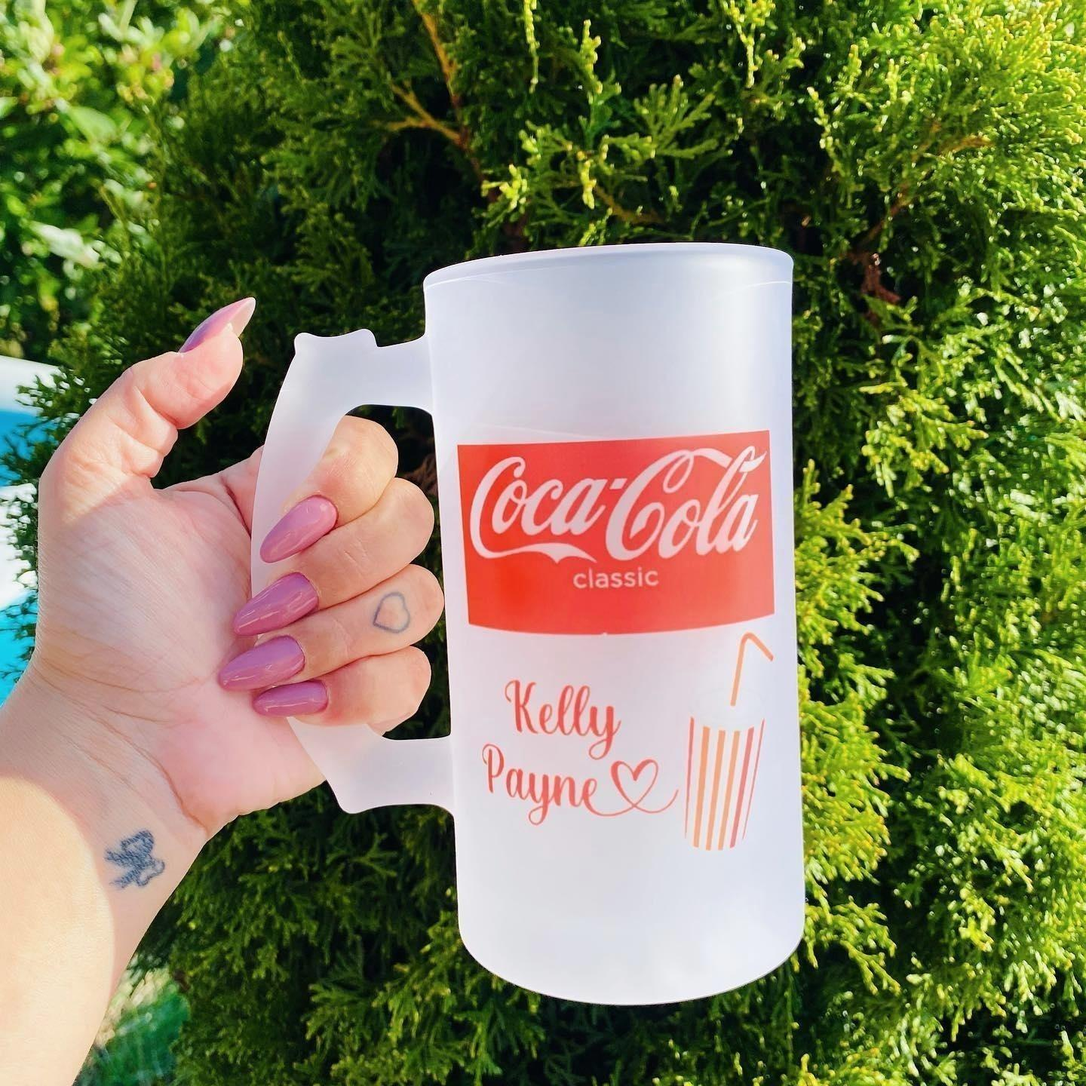glass-mug: (235, 239, 837, 1011)
